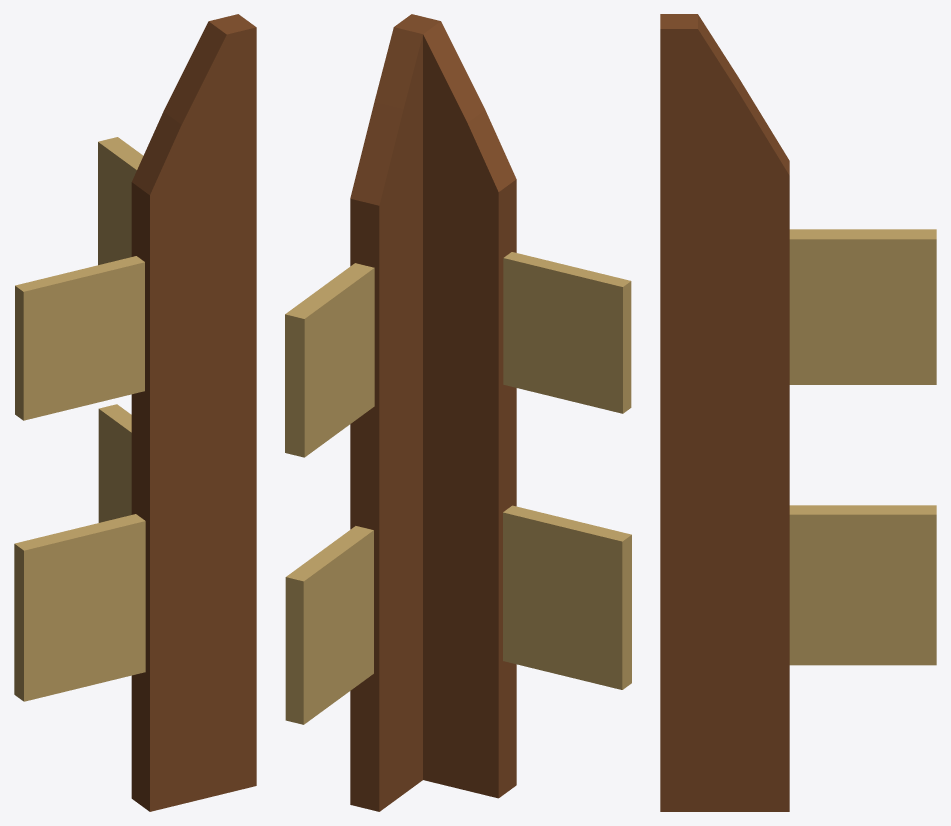
Rendered from CornerFenceConnector.fbx.
3 renders of one model, left to right at view 1: azimuth 30°, elevation 25°; view 2: azimuth 150°, elevation 25°; view 3: azimuth 270°, elevation 25°, orthographic. The views are drawn at different scales.
Parts seen in each view (by area): view 1: Cube; view 2: Cube; view 3: Cube.
Part boxes in pixels (bbox=[...]): Cube: bbox=[14, 14, 256, 811]; Cube: bbox=[285, 14, 631, 811]; Cube: bbox=[660, 14, 936, 811].
Size of the model in its own units: 136 by 431 by 138.
